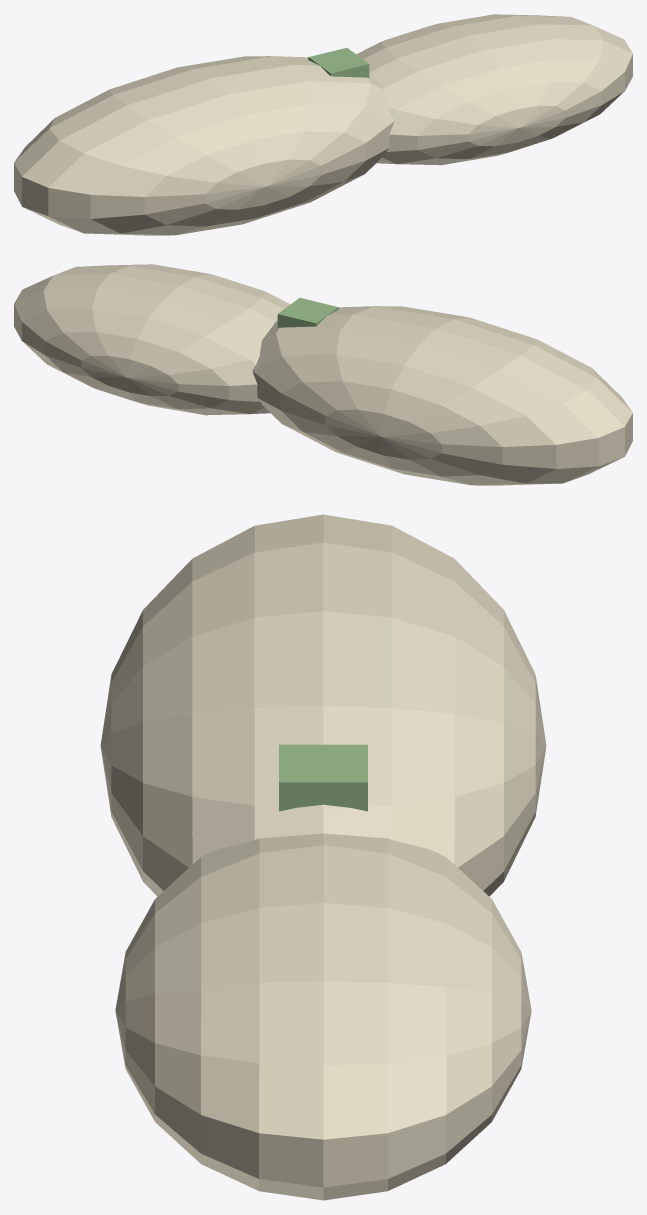
Rendered from dune_ridge.glb.
3 renders of one model, top to bottom at view 1: azimuth 30°, elevation 25°; view 2: azimuth 150°, elevation 25°; view 3: azimuth 270°, elevation 25°, orthographic. The views are drawn at different scales.
Visible parts, largest first — view 1: dune1, dune2, grass; view 2: dune1, dune2, grass; view 3: dune1, dune2, grass.
Part boxes in pixels (box(x1,y1,x2,y2)): dune1: box(14, 56, 394, 235); dune2: box(356, 14, 632, 165); grass: box(308, 48, 369, 77); dune1: box(252, 306, 632, 485); dune2: box(14, 264, 290, 415); grass: box(277, 298, 338, 327); dune1: box(100, 514, 546, 896); dune2: box(115, 833, 531, 1200); grass: box(279, 744, 367, 811).
Size of the model in its own units: 9.36 by 2 by 3.
